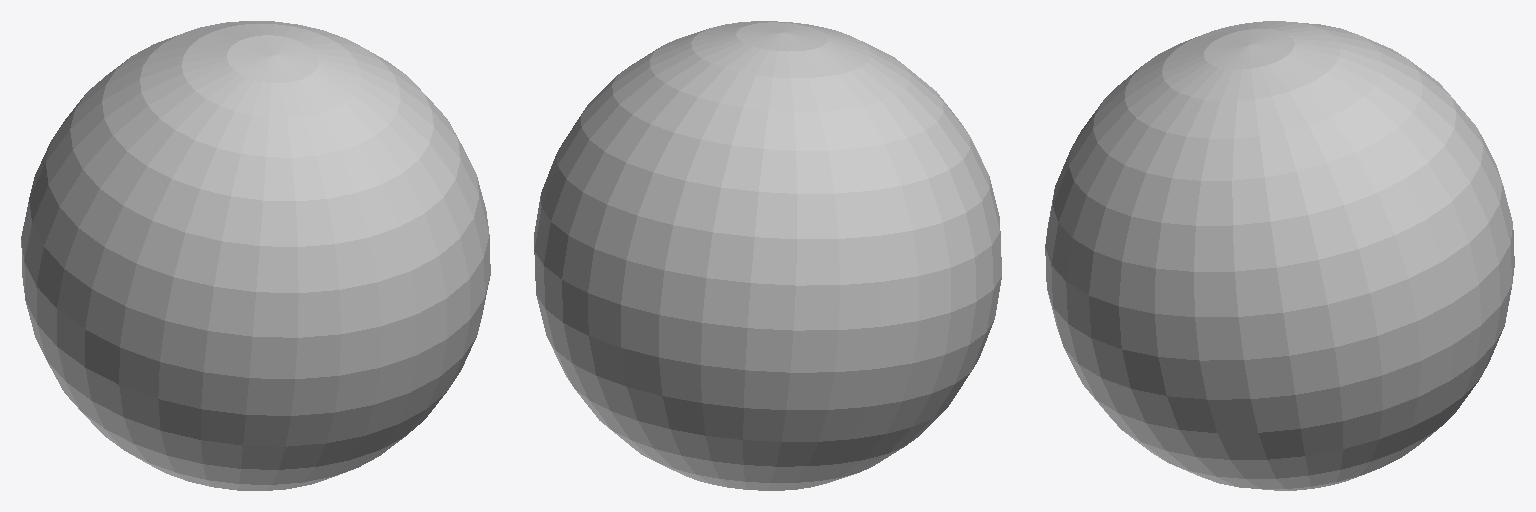
The model's file is car.obj.
3 renders of one model, left to right at view 1: azimuth 30°, elevation 25°; view 2: azimuth 150°, elevation 25°; view 3: azimuth 270°, elevation 25°, orthographic.
Visible parts, largest first — view 1: Sphere; view 2: Sphere; view 3: Sphere.
Boxes of the visible parts, x1,y1,x2,y2 form: Sphere: [21, 21, 490, 490]; Sphere: [534, 21, 1001, 490]; Sphere: [1045, 21, 1514, 490].
Bounding box in the file's own units: 4 × 3.99 × 3.99.